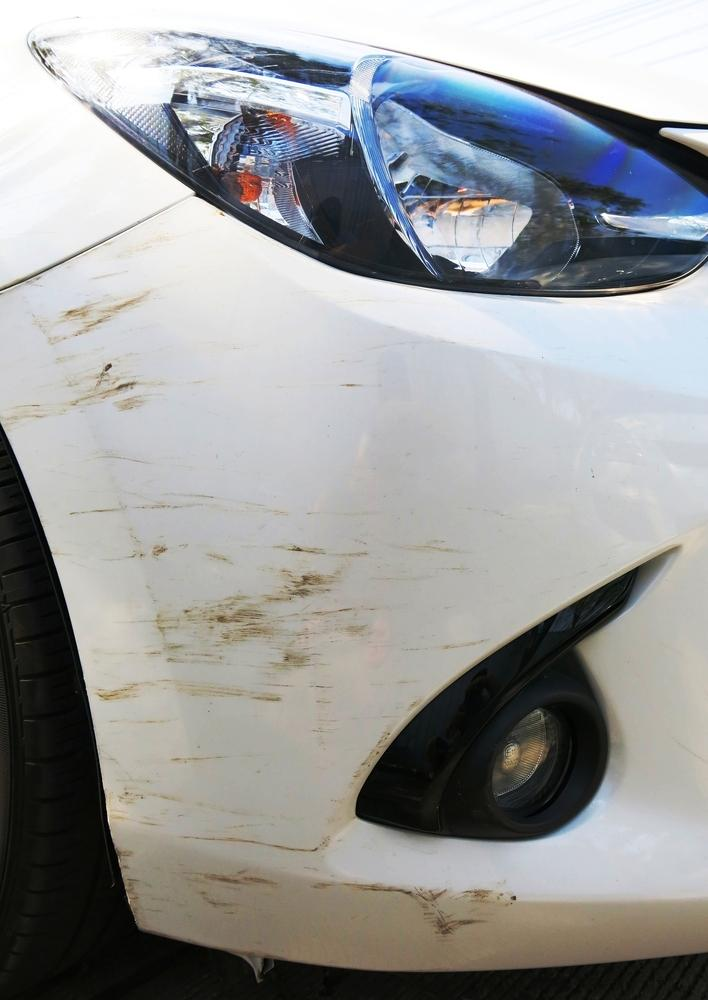scratch: (0, 197, 538, 943)
